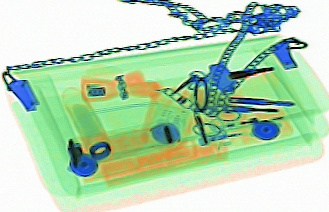lighter: (200, 99, 287, 137)
